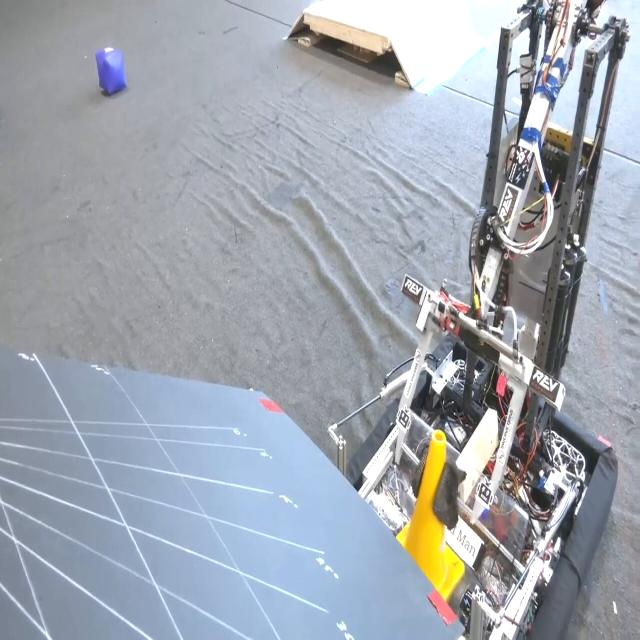frc_cone: (401, 428, 464, 610)
frc_cube: (94, 42, 130, 96)
